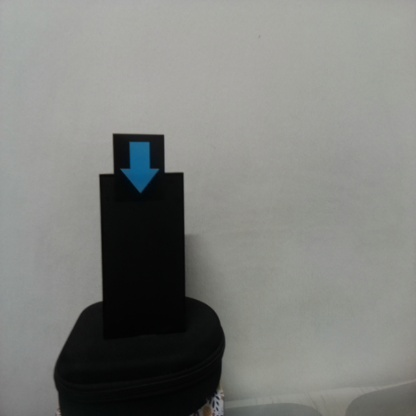id_2: (113, 134, 165, 206)
